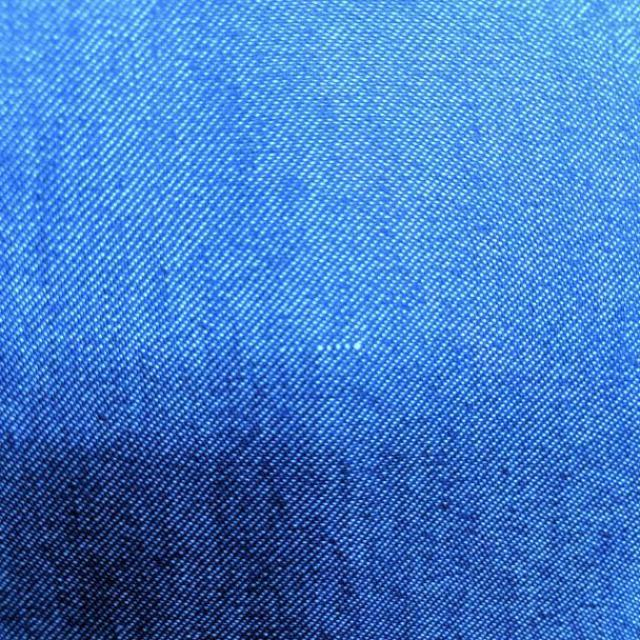Knot: (314, 342, 363, 353)
